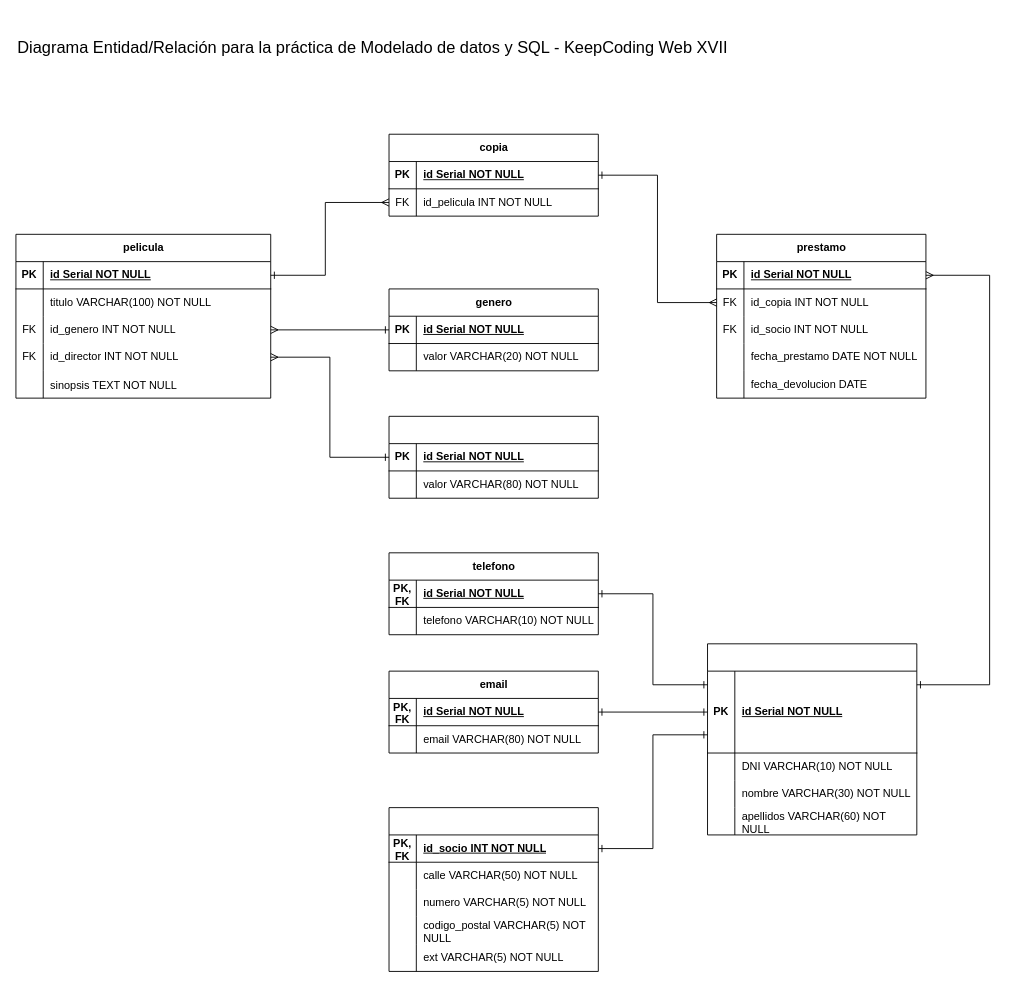
Some shapes in this 1014 by 987 pixel diagram are drawn without their labels. The shapes that lost their labels are listed below. From the top down, each one's box as (x1, y1, x2, y2) in pixels, then its label:
(388, 415, 598, 498): director
(707, 643, 917, 835): socio
(388, 807, 598, 971): direccion
